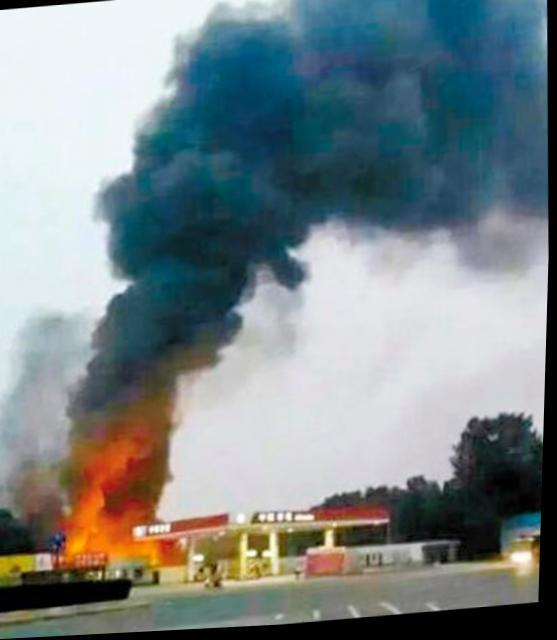fire: (64, 498, 103, 549), (101, 515, 134, 558), (139, 540, 177, 564)
